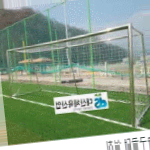goals: (6, 22, 150, 130)
